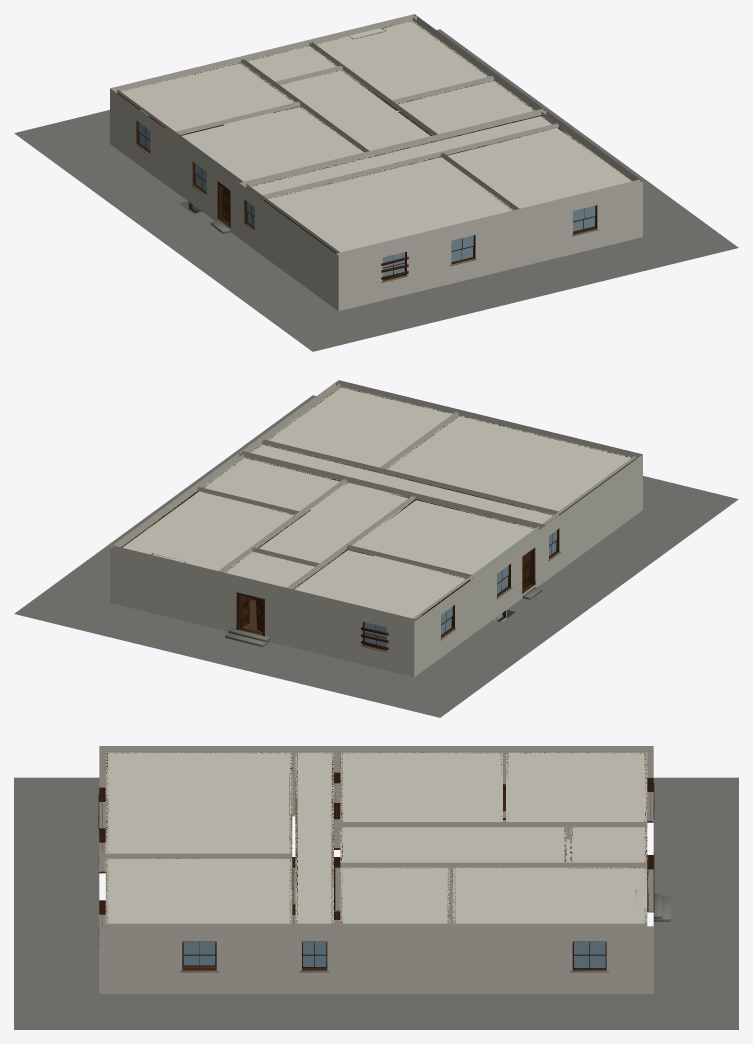
Rendered from Bungalow_Shell.fbx.
3 renders of one model, top to bottom at view 1: azimuth 30°, elevation 25°; view 2: azimuth 150°, elevation 25°; view 3: azimuth 270°, elevation 25°, orthographic. The views are drawn at different scales.
Visible parts, largest first — view 1: Ext_Ground, Wall_Ext_N2_Outside, Ceiling_Parlour, Ceiling_MasterBedroom, Ceiling_Kitchen, Ceiling_Bedroom, Ceiling_Living, Wall_Ext_E_Outside, Ceiling_CentralHall, Wall_Ext_E2_Outside, Ceiling_Bathroom, Ceiling_Corridor (+11 smaller); view 2: Ext_Ground, Wall_Ext_S_Outside, Ceiling_Parlour, Ceiling_MasterBedroom, Ceiling_Kitchen, Ceiling_Bedroom, Ceiling_Living, Wall_Ext_E_Outside, Ceiling_CentralHall, Wall_Ext_E2_Outside, Ceiling_Bathroom, Ceiling_Corridor (+11 smaller); view 3: Ext_Ground, Wall_Ext_W_Outside, Ceiling_Parlour, Wall_Ext_W2_Outside, Ceiling_MasterBedroom, Ceiling_Kitchen, Ceiling_Bedroom, Ceiling_Living, Ceiling_CentralHall, Ceiling_Corridor, Ceiling_Bathroom, Ceiling_EntranceHall (+20 smaller).
Boxes of the visible parts, x1,y1,x2,y2 form: Ext_Ground: (14, 29, 738, 351); Wall_Ext_N2_Outside: (336, 179, 642, 311); Ceiling_Parlour: (267, 156, 513, 252); Ceiling_MasterBedroom: (447, 128, 631, 208); Ceiling_Kitchen: (181, 105, 363, 181); Ceiling_Bedroom: (315, 20, 488, 100); Ceiling_Living: (121, 62, 295, 131); Wall_Ext_E_Outside: (112, 90, 239, 238); Ceiling_CentralHall: (280, 70, 431, 150); Wall_Ext_E2_Outside: (242, 185, 335, 308); Ceiling_Bathroom: (397, 80, 535, 134); Ceiling_Corridor: (250, 115, 553, 195); Ext_Ground: (14, 395, 738, 717); Wall_Ext_S_Outside: (110, 545, 416, 677); Ceiling_Parlour: (385, 415, 631, 511); Ceiling_MasterBedroom: (267, 386, 452, 467); Ceiling_Kitchen: (352, 500, 535, 574); Ceiling_Bedroom: (121, 491, 294, 570); Ceiling_Living: (292, 549, 466, 618); Wall_Ext_E_Outside: (417, 527, 543, 674); Ceiling_CentralHall: (257, 482, 408, 563); Wall_Ext_E2_Outside: (546, 456, 640, 580); Ceiling_Bathroom: (202, 457, 339, 511); Ceiling_Corridor: (250, 444, 553, 523); Ext_Ground: (14, 777, 738, 1029); Wall_Ext_W_Outside: (340, 926, 647, 993); Ceiling_Parlour: (105, 752, 292, 853); Wall_Ext_W2_Outside: (105, 926, 333, 993); Ceiling_MasterBedroom: (105, 858, 292, 923); Ceiling_Kitchen: (340, 752, 502, 821); Ceiling_Bedroom: (452, 867, 647, 923); Ceiling_Living: (506, 752, 647, 821); Ceiling_CentralHall: (340, 827, 566, 862); Ceiling_Corridor: (295, 752, 333, 923); Ceiling_Bathroom: (340, 867, 449, 923); Ceiling_EntranceHall: (570, 827, 647, 862).
Bounding box in the file's own units: 28 × 6.25 × 34.
